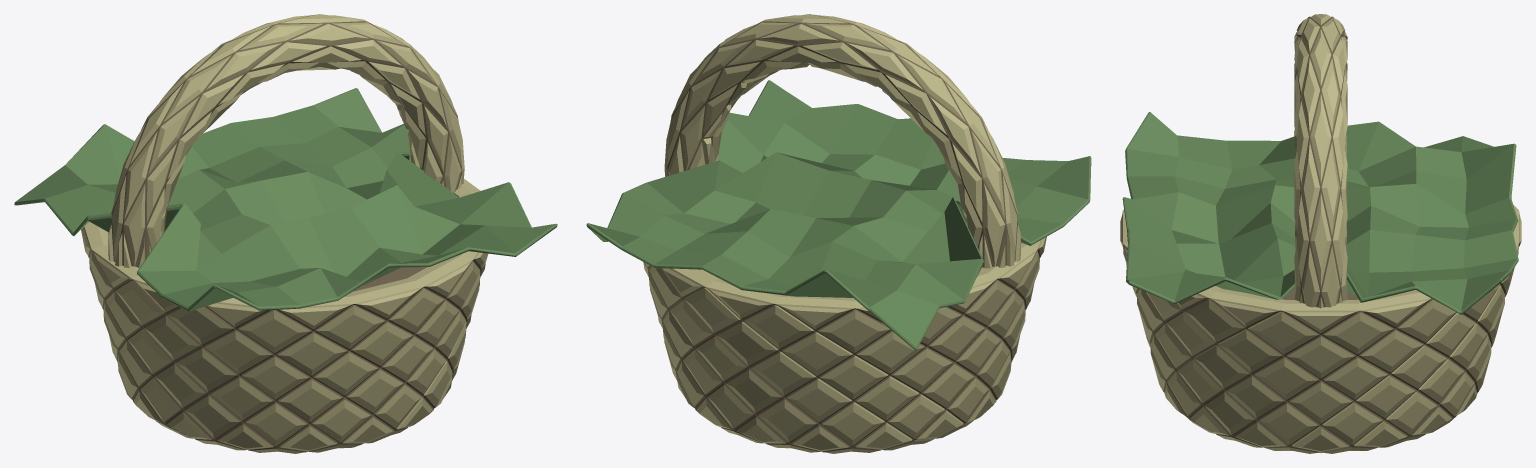
Rendered from basket3.fbx.
The picture shows the model from 3 angles, left to right: view 1: azimuth 30°, elevation 25°; view 2: azimuth 150°, elevation 25°; view 3: azimuth 270°, elevation 25°; orthographic projection. The views are drawn at different scales.
Visible parts, largest first — view 1: Plane.001; view 2: Plane.001; view 3: Plane.001.
Boxes of the visible parts, x1,y1,x2,y2 form: Plane.001: (14, 14, 557, 453); Plane.001: (586, 14, 1091, 453); Plane.001: (1120, 14, 1521, 453).
Bounding box in the file's own units: 330 × 341 × 330.
